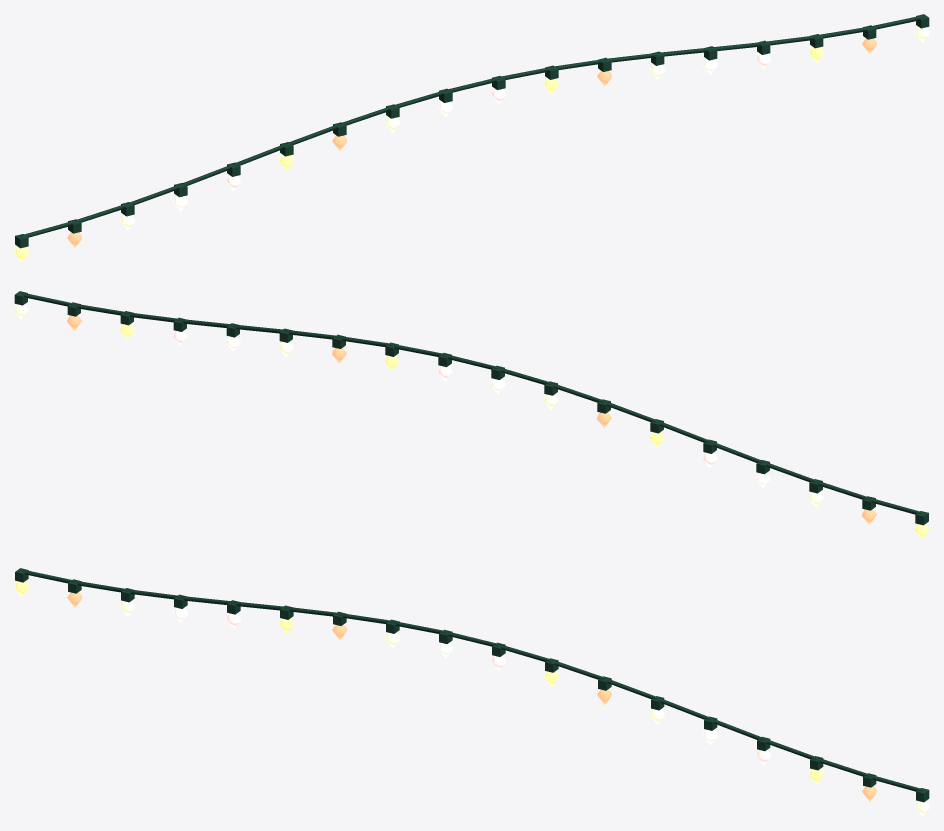
Rendered from depot_lights.glb.
3 views of the same model, one above another, from view 1: azimuth 30°, elevation 25°; view 2: azimuth 150°, elevation 25°; view 3: azimuth 330°, elevation 25° (orthographic).
Visible parts, largest first — view 1: depot_lights; view 2: depot_lights; view 3: depot_lights.
Boxes of the visible parts, x1,y1,x2,y2 form: depot_lights: (14, 14, 929, 262); depot_lights: (14, 291, 929, 539); depot_lights: (14, 568, 929, 816).
Size of the model in its own units: 9.98 by 0.7199 by 0.1443.
